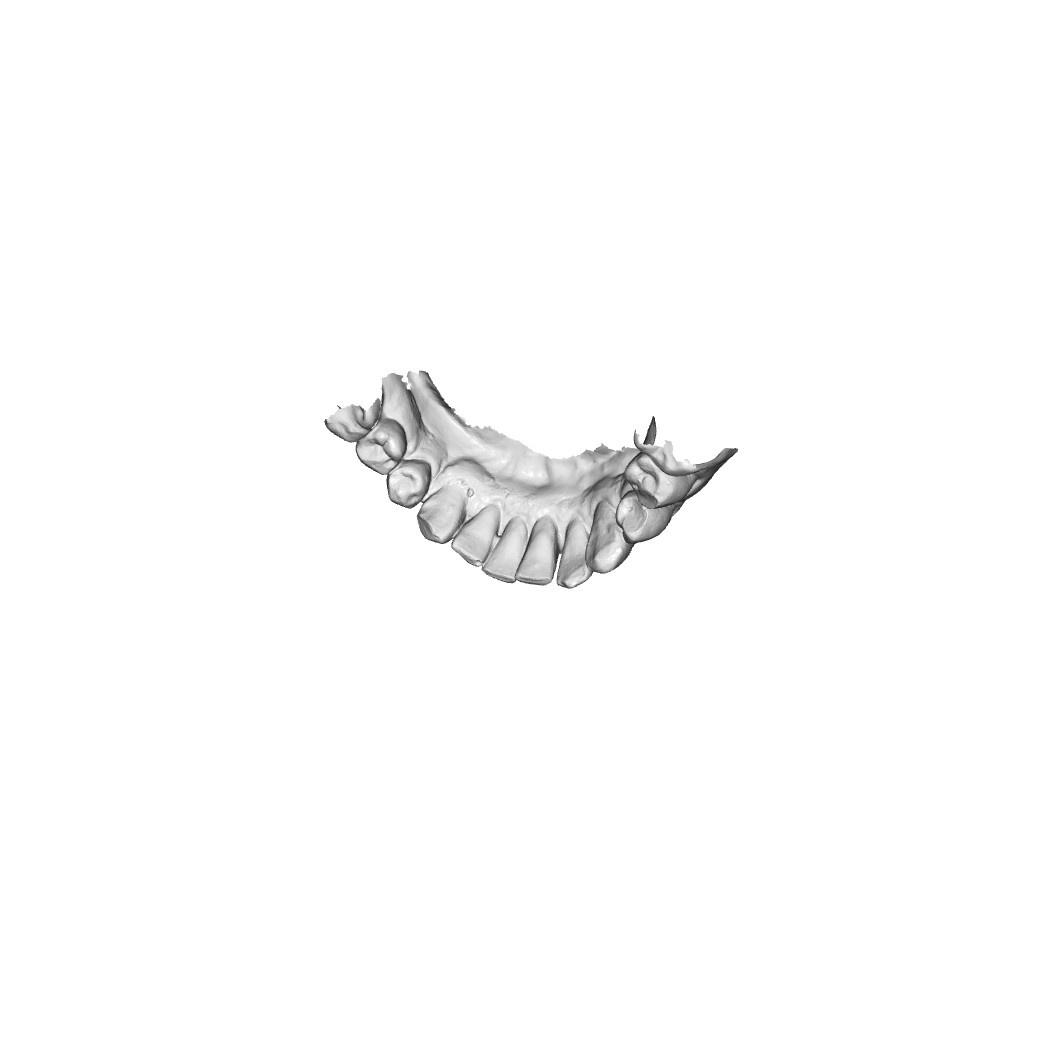canine: (585, 506, 632, 573), (414, 492, 459, 547)
incisor: (554, 525, 593, 593), (482, 519, 521, 578), (520, 524, 556, 583), (454, 510, 497, 558)
premolar: (623, 452, 693, 509), (357, 423, 403, 470), (382, 463, 431, 507), (620, 495, 668, 538)
